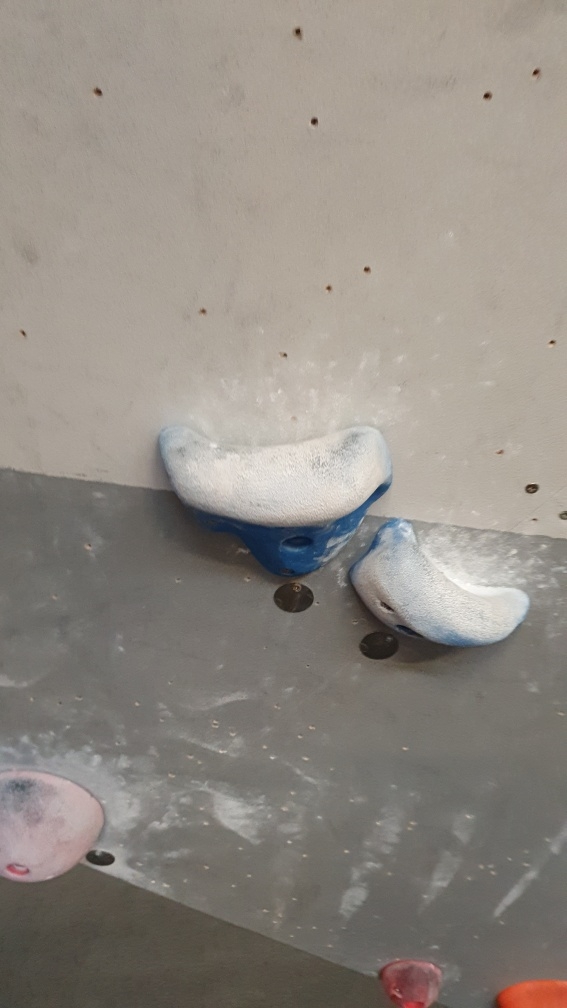Hand Start: (351, 619, 400, 664), (267, 576, 321, 616), (83, 846, 119, 881)
Jug: (146, 414, 394, 582), (351, 516, 533, 651)
Sloper: (1, 760, 109, 888), (376, 951, 445, 1007)
